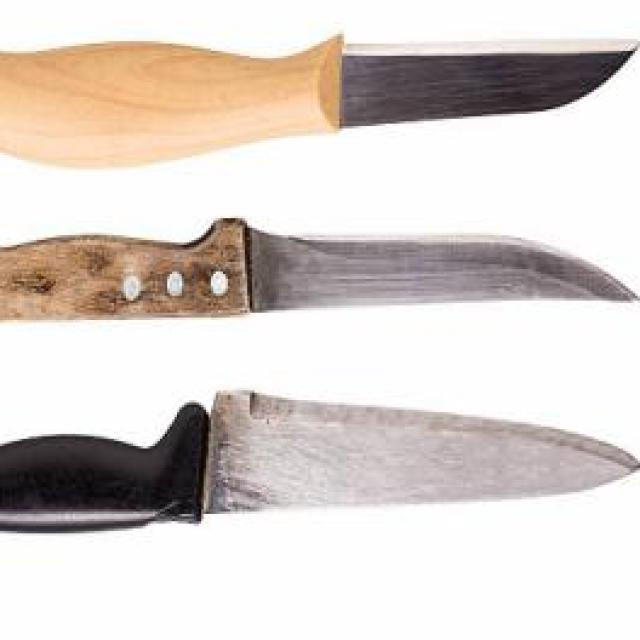knife: (0, 388, 640, 540), (0, 24, 640, 175), (0, 216, 640, 330)
